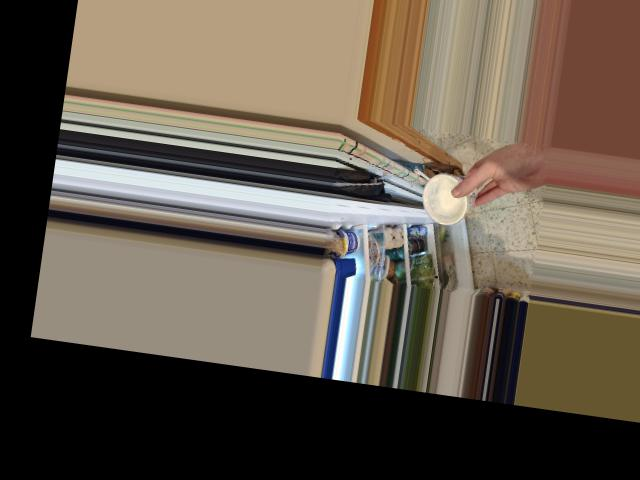cotage: (412, 169, 483, 227)
